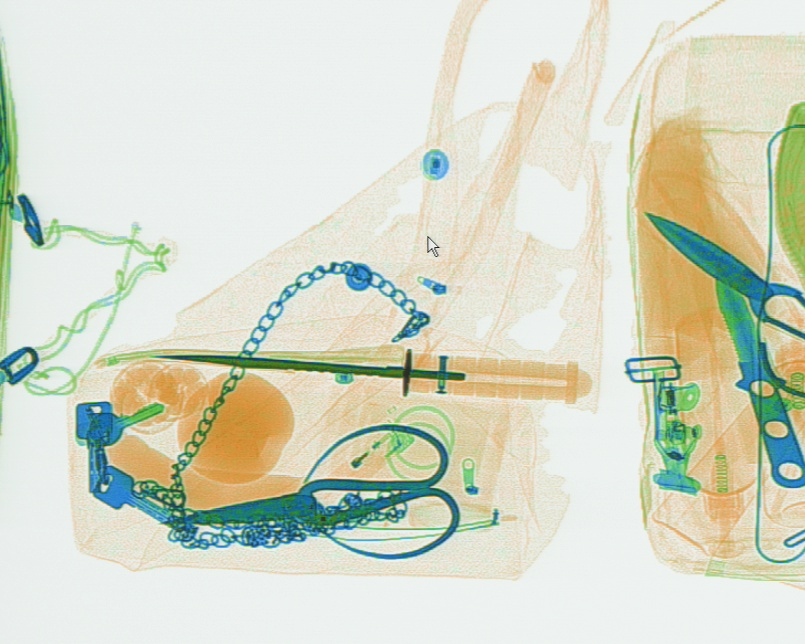knife: (713, 271, 803, 488)
lighter: (319, 422, 418, 505)
scissors: (162, 423, 460, 559), (647, 214, 803, 396)
